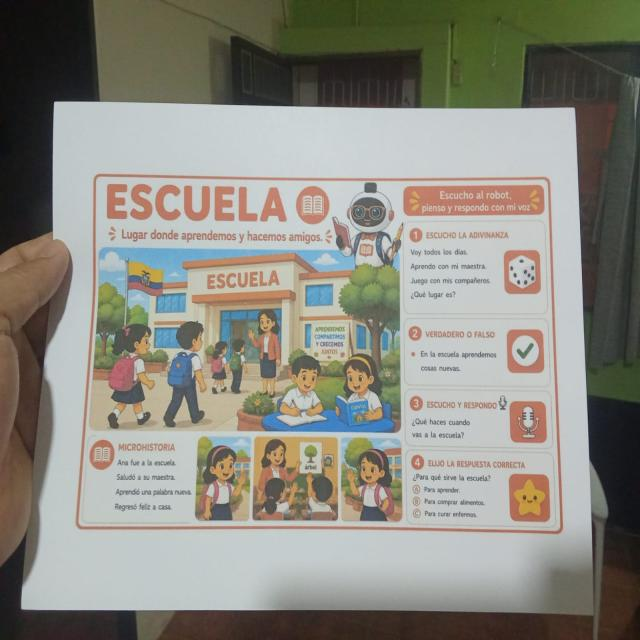escuela: (72, 169, 567, 539)
